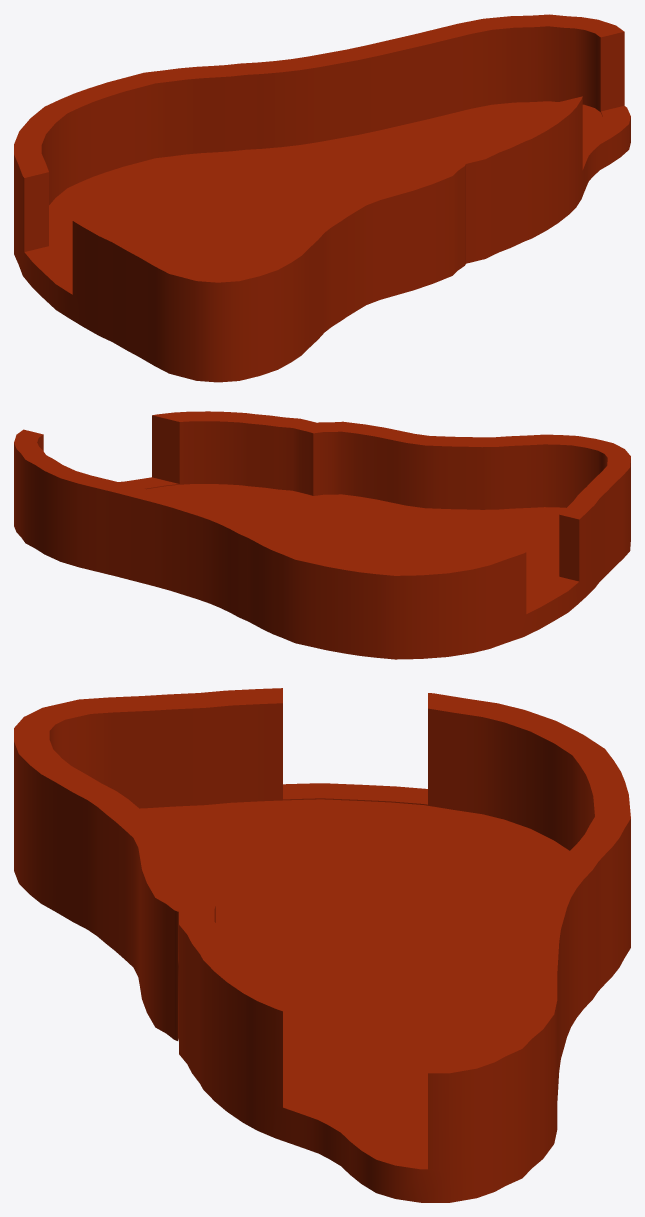
File: Organ_Liver_Rectangular_Cuts.fbx
The picture shows the model from 3 angles, top to bottom: view 1: azimuth 30°, elevation 25°; view 2: azimuth 150°, elevation 25°; view 3: azimuth 270°, elevation 25°; orthographic projection. The views are drawn at different scales.
Parts seen in each view (by area): view 1: _12_04_Extruded_Color_Liver_No_Cuts:polySurface2; view 2: _12_04_Extruded_Color_Liver_No_Cuts:polySurface2; view 3: _12_04_Extruded_Color_Liver_No_Cuts:polySurface2.
Part boxes in pixels (x1,y1,x2,y2): _12_04_Extruded_Color_Liver_No_Cuts:polySurface2: (14,14,630,382); _12_04_Extruded_Color_Liver_No_Cuts:polySurface2: (14,411,630,659); _12_04_Extruded_Color_Liver_No_Cuts:polySurface2: (14,688,630,1202).
Bounding box in the file's own units: 5.57 × 0.8709 × 3.76.
